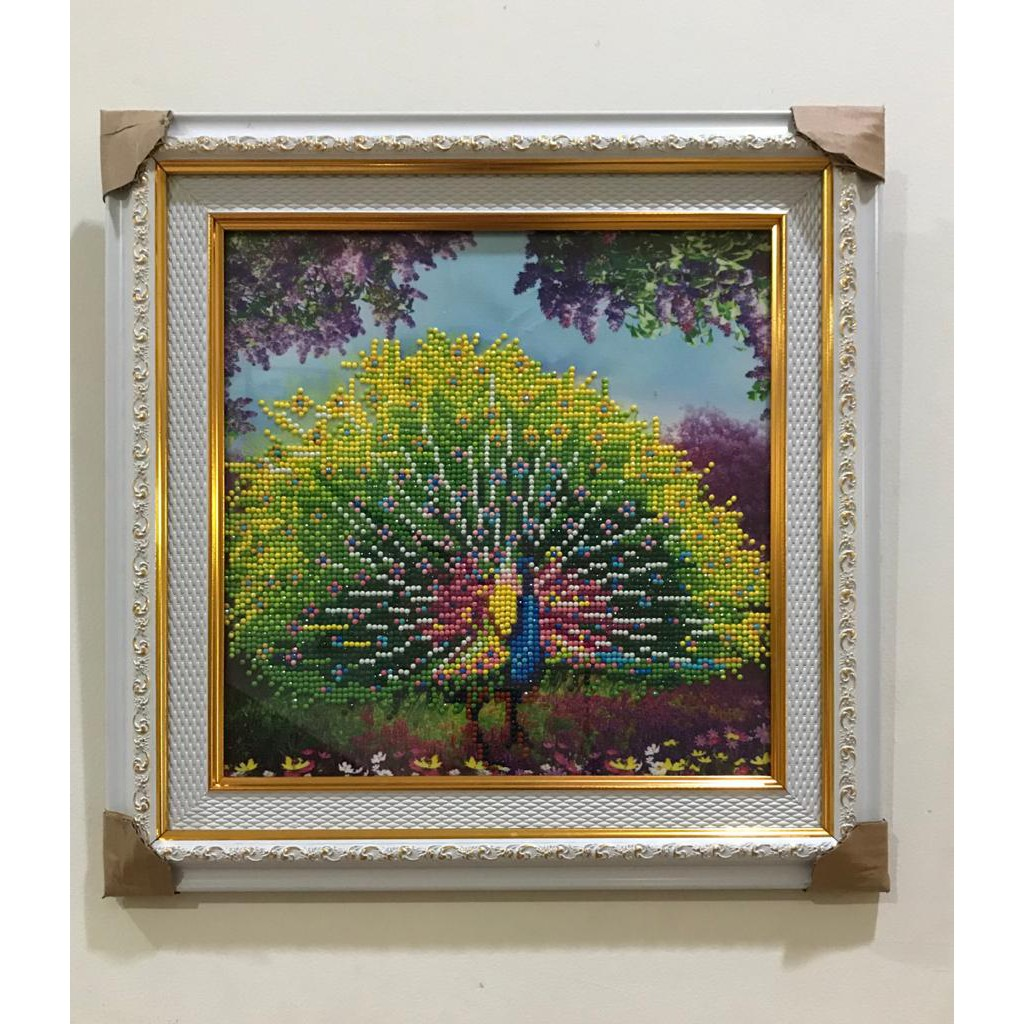lukisan: (82, 115, 898, 929)
